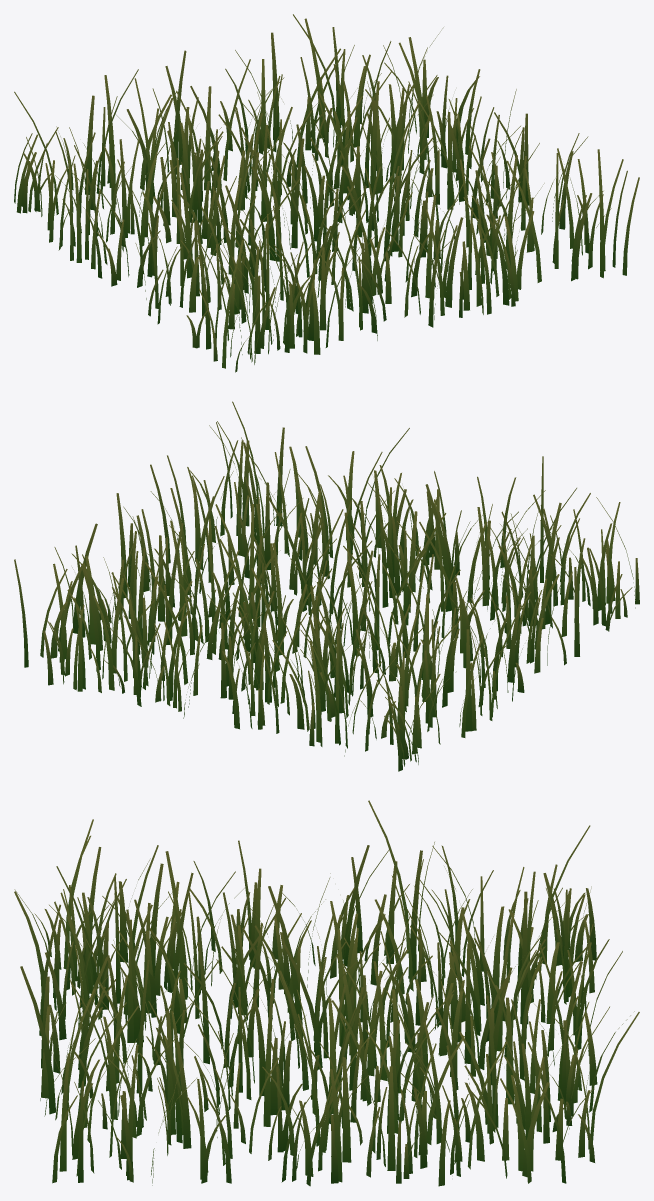
The model's file is Turf_Wild_v4.glb.
3 renders of one model, top to bottom at view 1: azimuth 30°, elevation 25°; view 2: azimuth 150°, elevation 25°; view 3: azimuth 270°, elevation 25°, orthographic. The views are drawn at different scales.
Parts seen in each view (by area): view 1: Turf_Wild_v4; view 2: Turf_Wild_v4; view 3: Turf_Wild_v4.
Boxes of the visible parts, x1,y1,x2,y2 form: Turf_Wild_v4: (14,14,639,372); Turf_Wild_v4: (14,401,639,771); Turf_Wild_v4: (14,800,639,1186).
Size of the model in its own units: 1.34 by 0.3371 by 1.37.
